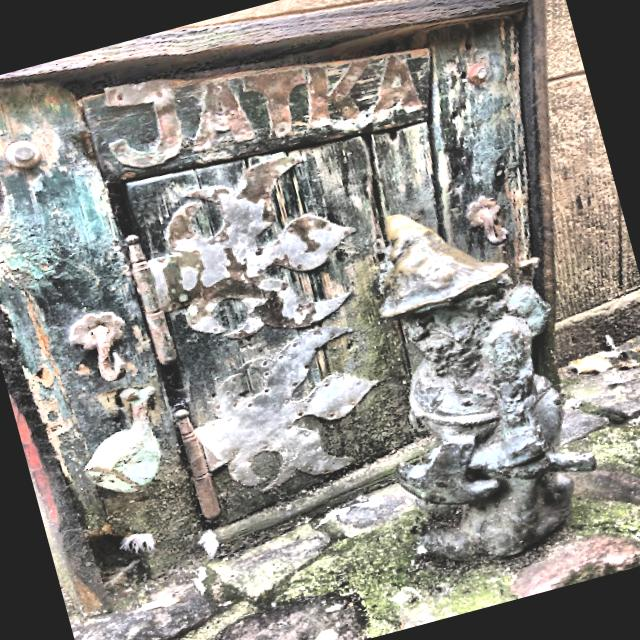Rzeznik: (380, 214, 596, 559)
